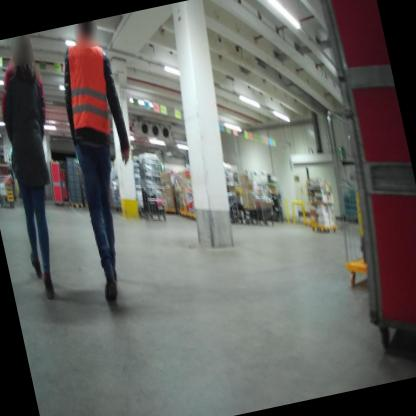pallet: (65, 195, 84, 211)
